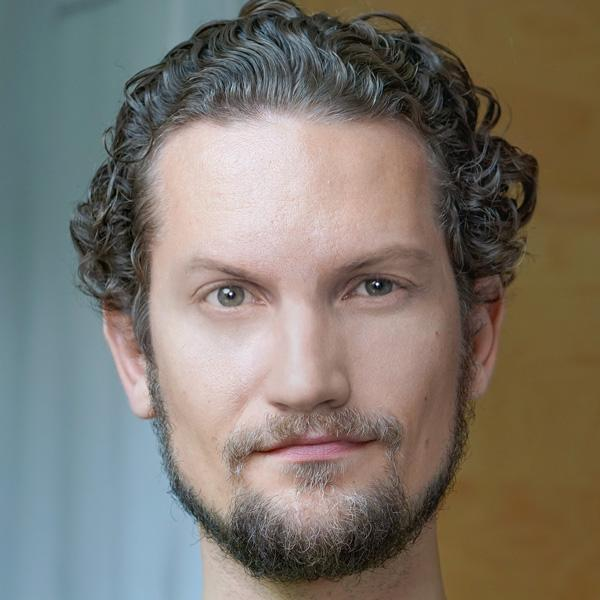Eyes: (328, 264, 424, 314), (179, 271, 272, 321)
